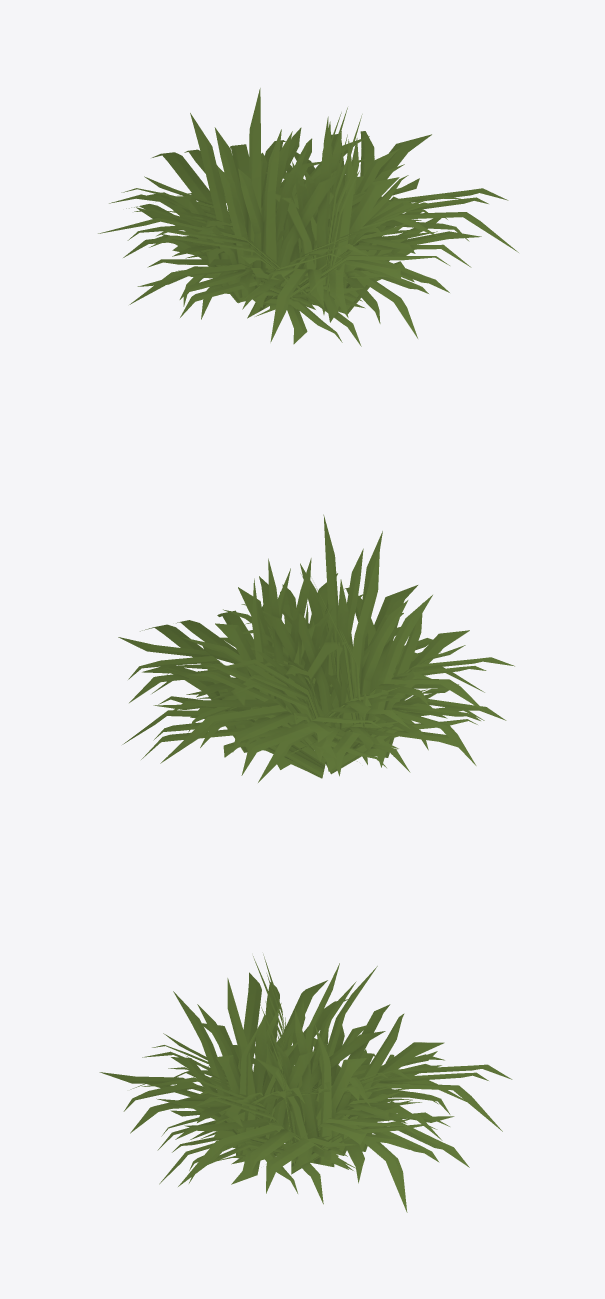
The model's file is SM_Env_Grass_Bush_01.fbx.
3 renders of one model, top to bottom at view 1: azimuth 30°, elevation 25°; view 2: azimuth 150°, elevation 25°; view 3: azimuth 270°, elevation 25°, orthographic. The views are drawn at different scales.
Parts seen in each view (by area): view 1: SM_Env_Grass_Bush_01_LOD0; view 2: SM_Env_Grass_Bush_01_LOD0; view 3: SM_Env_Grass_Bush_01_LOD0.
Boxes of the visible parts, box(x1,y1,x2,y2) form: SM_Env_Grass_Bush_01_LOD0: box(98, 88, 518, 346); SM_Env_Grass_Bush_01_LOD0: box(118, 514, 514, 782); SM_Env_Grass_Bush_01_LOD0: box(99, 954, 512, 1212).
Size of what is drawn, in the model's own units: 228 by 120 by 231.
